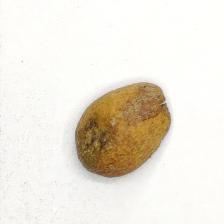NG: (75, 118, 115, 172), (131, 82, 172, 126)
